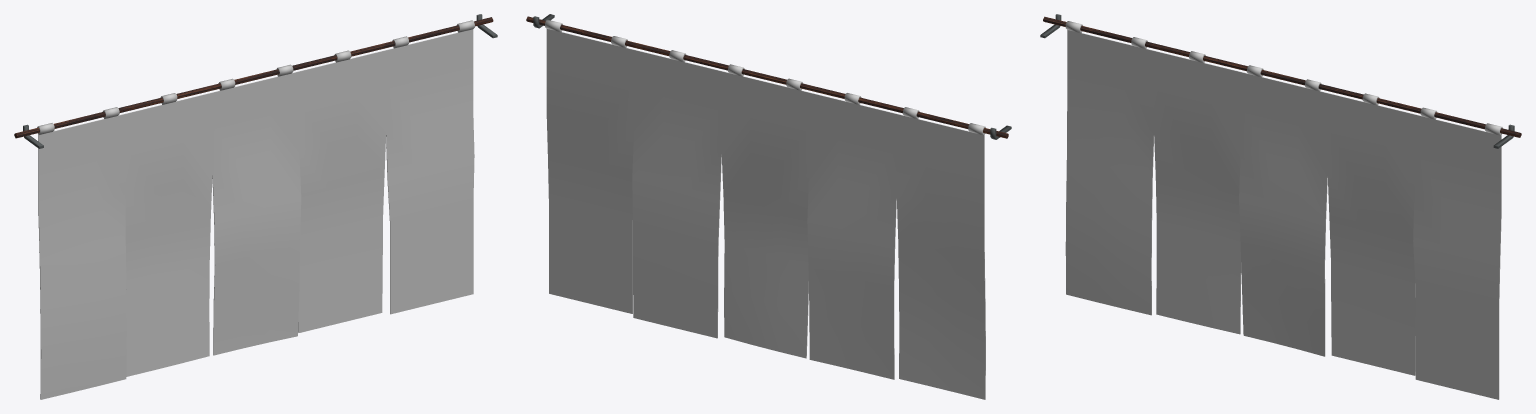
File: jov_noren_1t.fbx
3 views of the same model, side by side, from view 1: azimuth 30°, elevation 25°; view 2: azimuth 150°, elevation 25°; view 3: azimuth 330°, elevation 25° (orthographic).
Visible parts, largest first — view 1: jov_noren_1t; view 2: jov_noren_1t; view 3: jov_noren_1t.
Boxes of the visible parts, <box> form: jov_noren_1t: <box>14,14,497,399</box>; jov_noren_1t: <box>526,14,1011,399</box>; jov_noren_1t: <box>1040,14,1521,399</box>.
Bounding box in the file's own units: 221 × 122 × 13.22.
